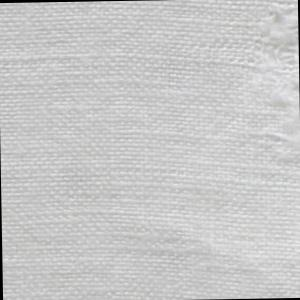Damage: (245, 1, 299, 86), (258, 107, 300, 177)
